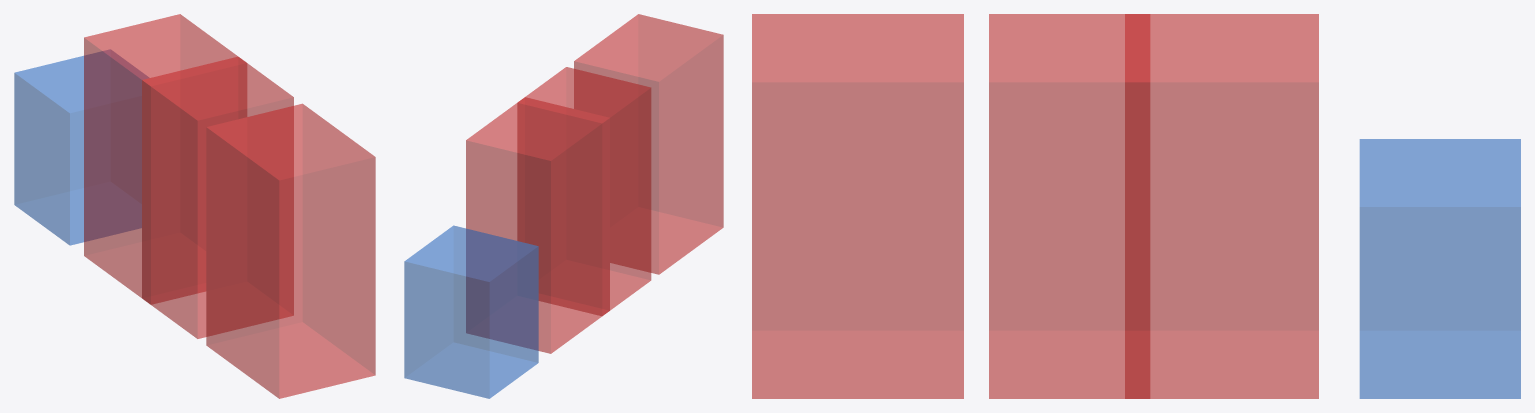
The model's file is home_11_zones.obj.
The picture shows the model from 3 angles, left to right: view 1: azimuth 30°, elevation 25°; view 2: azimuth 150°, elevation 25°; view 3: azimuth 270°, elevation 25°; orthographic projection. The views are drawn at different scales.
Visible parts, largest first — view 1: meter_panel_working_space, inverter_vlld_wall_space, base_hub_wall_space, base_core_1_footprint; view 2: inverter_vlld_wall_space, meter_panel_working_space, base_hub_wall_space, base_core_1_footprint; view 3: meter_panel_working_space, inverter_vlld_wall_space, base_hub_wall_space, base_core_1_footprint.
Part boxes in pixels (x1,y1,x2,y2): meter_panel_working_space: [206, 103, 375, 398]; inverter_vlld_wall_space: [84, 14, 246, 304]; base_hub_wall_space: [142, 57, 293, 338]; base_core_1_footprint: [14, 49, 148, 245]; inverter_vlld_wall_space: [466, 97, 609, 353]; meter_panel_working_space: [574, 14, 723, 274]; base_hub_wall_space: [517, 67, 651, 315]; base_core_1_footprint: [404, 225, 538, 398]; meter_panel_working_space: [752, 14, 963, 398]; inverter_vlld_wall_space: [1125, 14, 1318, 398]; base_hub_wall_space: [989, 14, 1150, 398]; base_core_1_footprint: [1359, 139, 1520, 398].
Bounding box in the file's own units: 0.9144 × 1.98 × 4.36.
